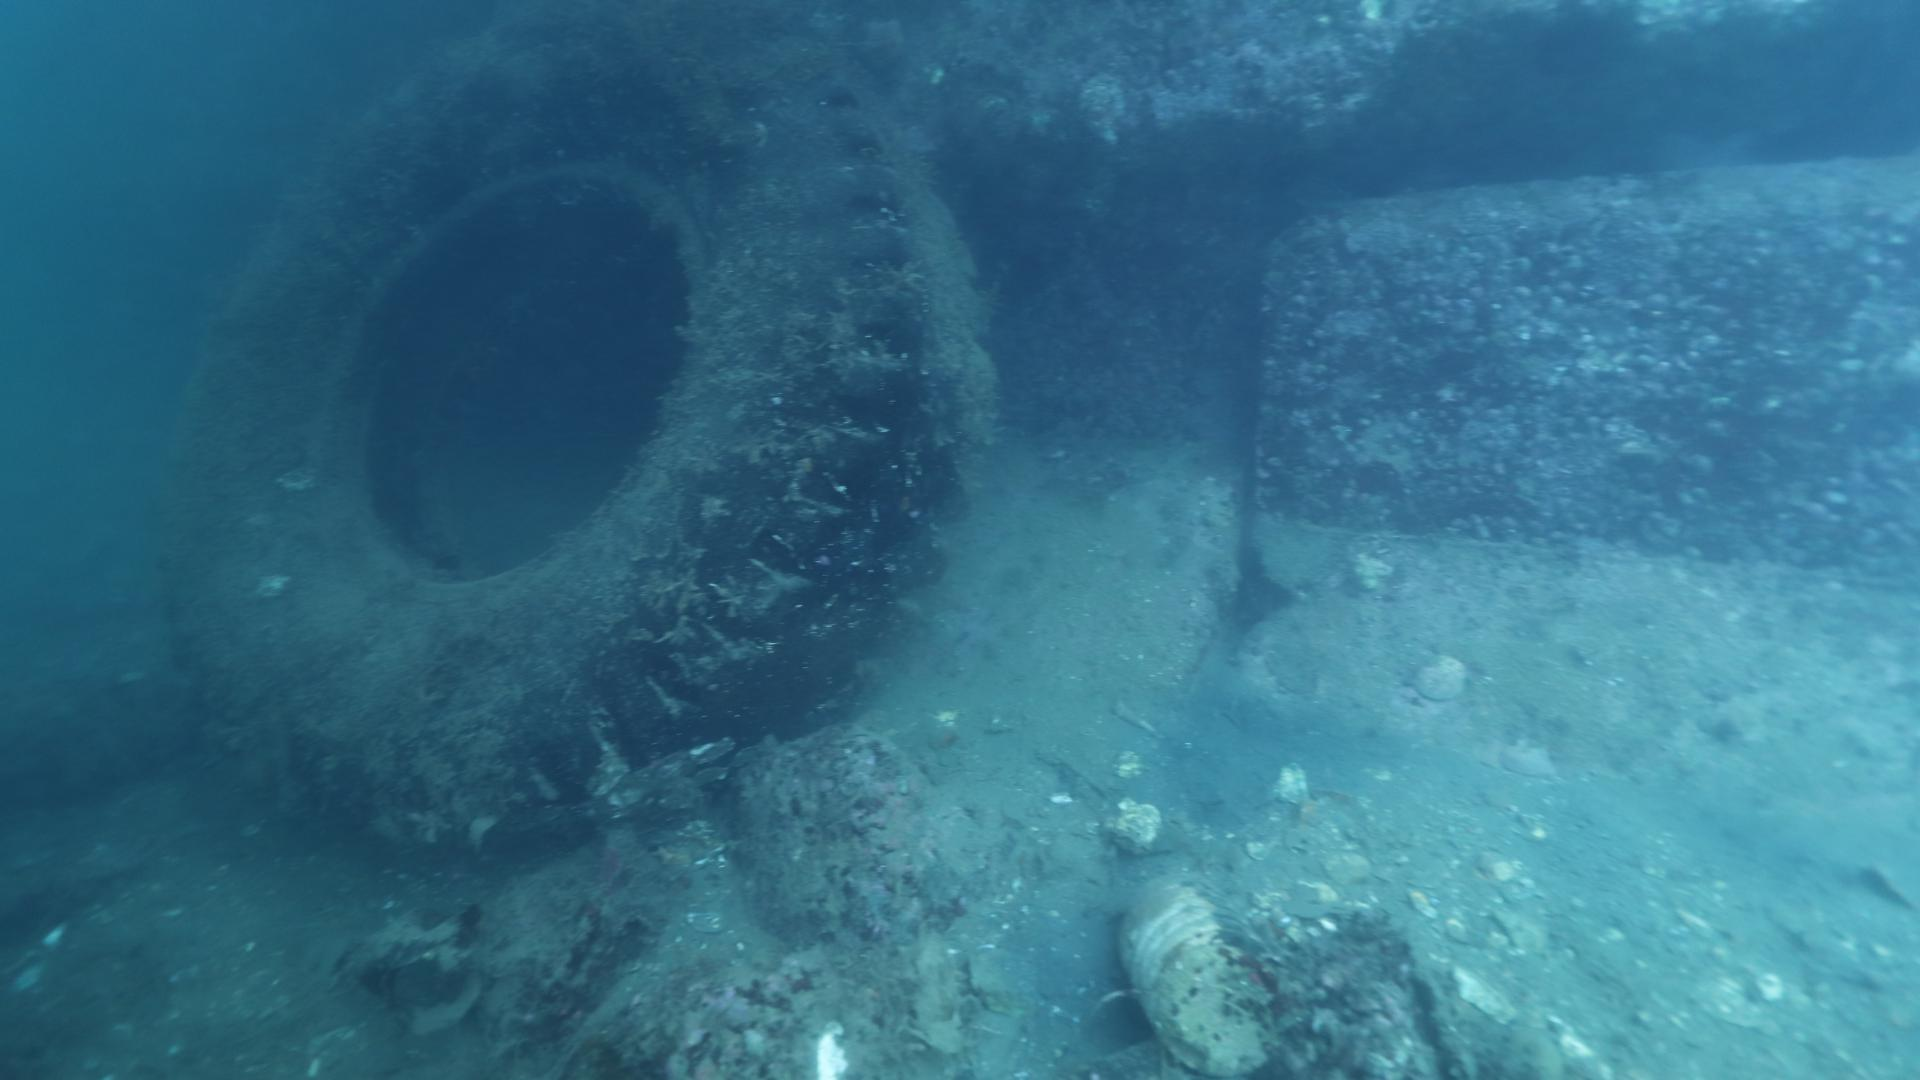tire: (173, 0, 997, 849)
